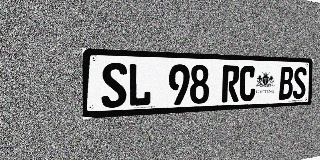8: (190, 64, 210, 104)
9: (168, 64, 190, 105)
B: (279, 67, 294, 100)
C: (239, 66, 256, 102)
L: (128, 63, 151, 107)
R: (222, 65, 240, 102)
S: (101, 62, 127, 108), (292, 67, 307, 99)
